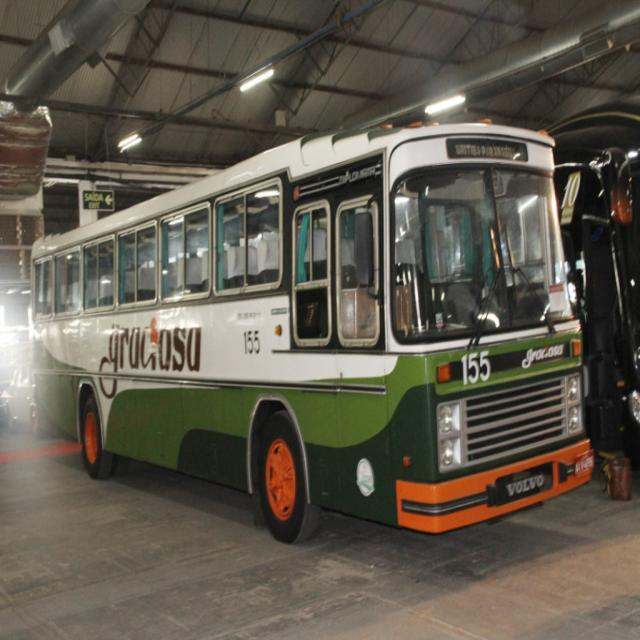Buses: (28, 122, 596, 547)
